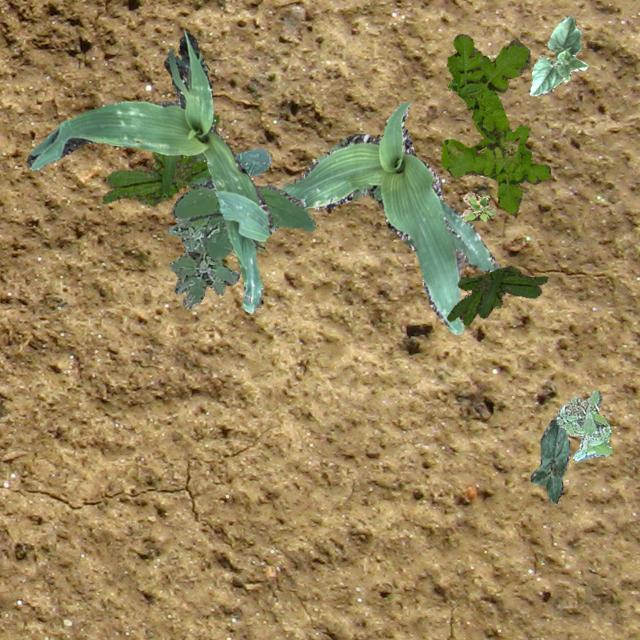crop: (25, 31, 272, 312), (271, 100, 497, 334), (528, 15, 586, 94), (528, 414, 570, 502)
weed: (440, 32, 550, 214), (170, 148, 314, 262), (100, 114, 218, 205), (165, 215, 238, 308), (446, 264, 546, 324), (556, 390, 612, 460), (460, 190, 494, 220)
